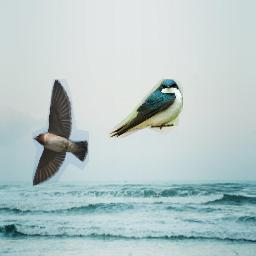Swallow: (32, 79, 89, 186), (108, 79, 183, 138)
